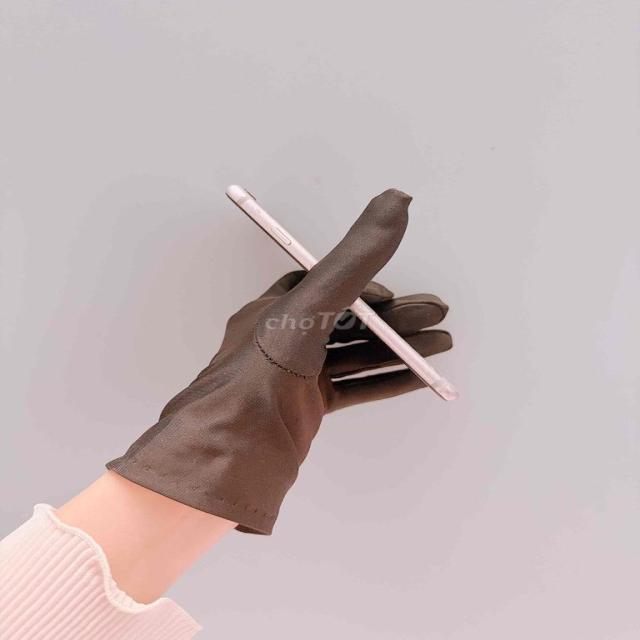scratch: (410, 364, 463, 404), (236, 197, 279, 222), (349, 297, 392, 319)
